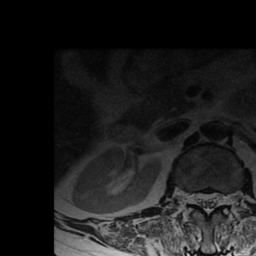CCS_normal: (204, 181, 212, 221)
LFS_normal: (222, 182, 231, 213)
LLS_normal: (212, 182, 222, 214)
RFS_normal: (185, 181, 195, 213)
RLS_normal: (194, 182, 204, 215)
